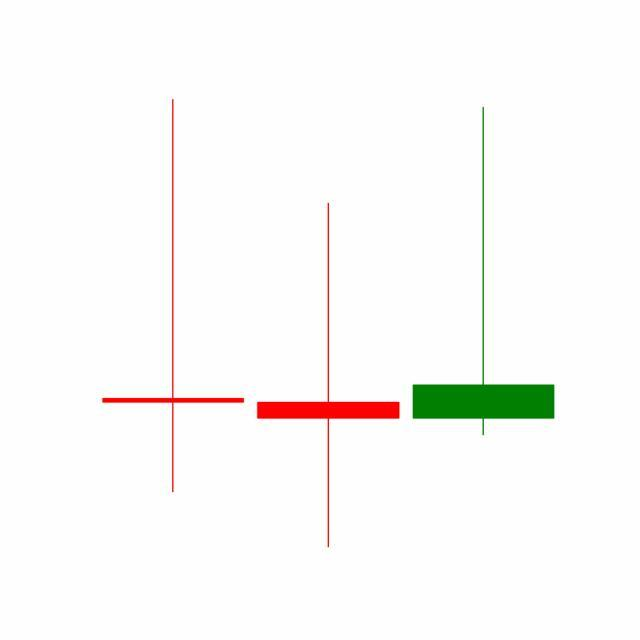Gravestone Doji: (406, 104, 562, 440)
